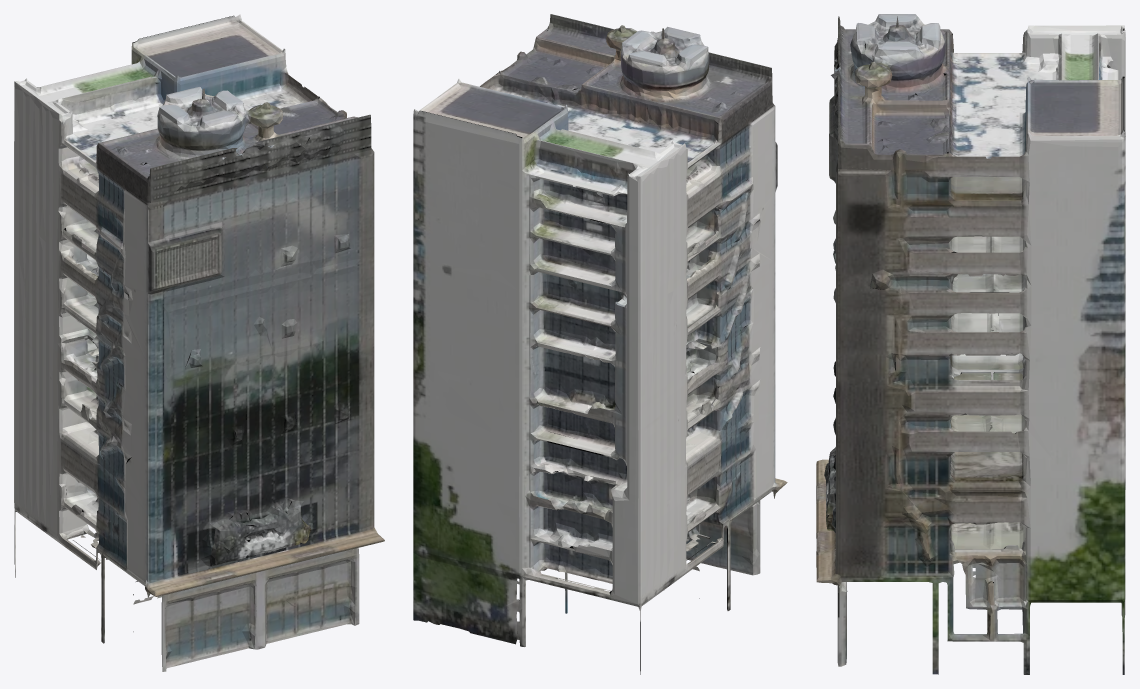
File: midglass.glb
3 renders of one model, left to right at view 1: azimuth 30°, elevation 25°; view 2: azimuth 150°, elevation 25°; view 3: azimuth 270°, elevation 25°, orthographic. The views are drawn at different scales.
Visible parts, largest first — view 1: Body; view 2: Body; view 3: Body.
Part boxes in pixels (x1=…): Body: x1=14, y1=14, x2=384, y2=671; Body: x1=413, y1=14, x2=787, y2=674; Body: x1=816, y1=14, x2=1125, y2=674.
Size of the model in its own units: 14.29 by 31.79 by 15.22.
1 material, 1 textured.
